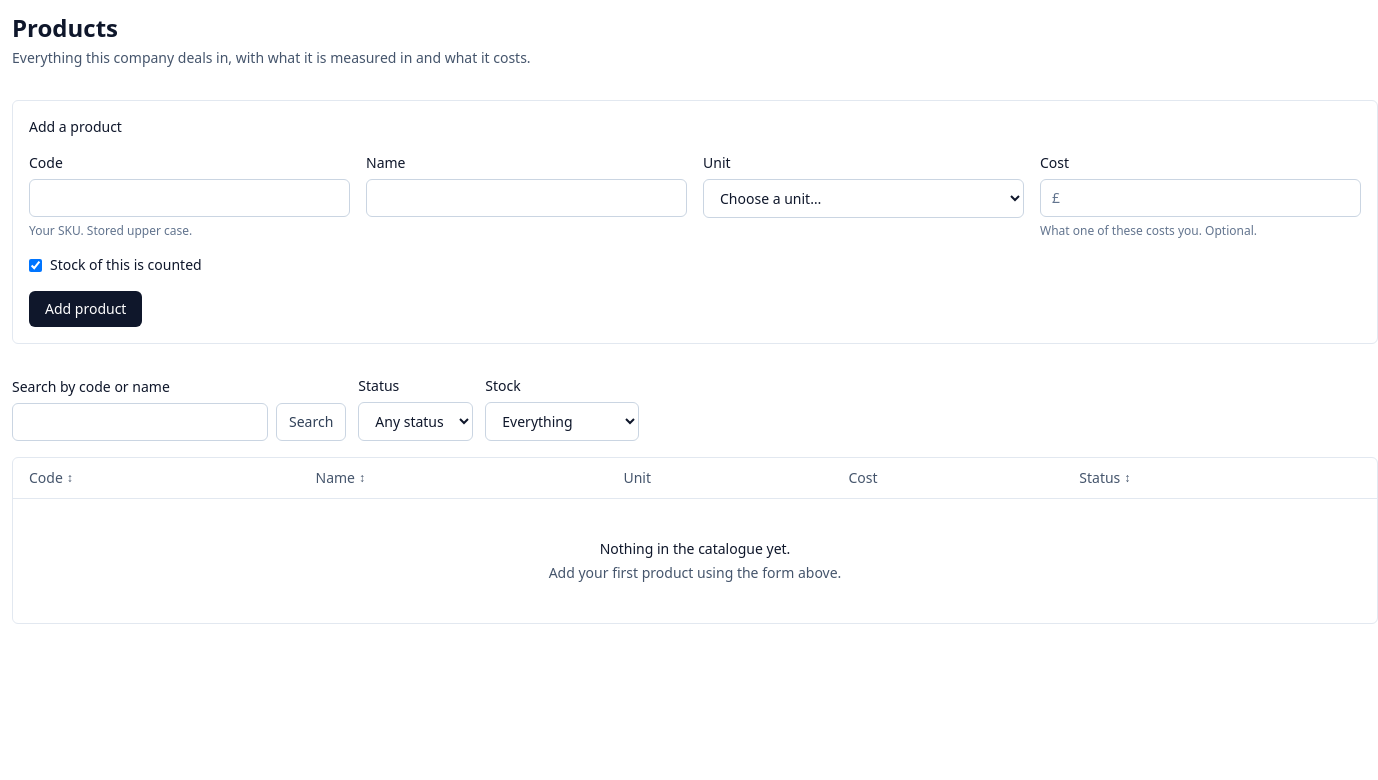
Test case: ProductsPage › adding a product › shows a duplicate code as a message rather than a silent failure
This screenshot has width=1378, height=780.
Expected: the text "Nothing in the catalogue yet." is shown, [600, 539, 790, 558]
In the field labelled "Code": (190, 198) [29, 179, 350, 217], type "FLOUR"
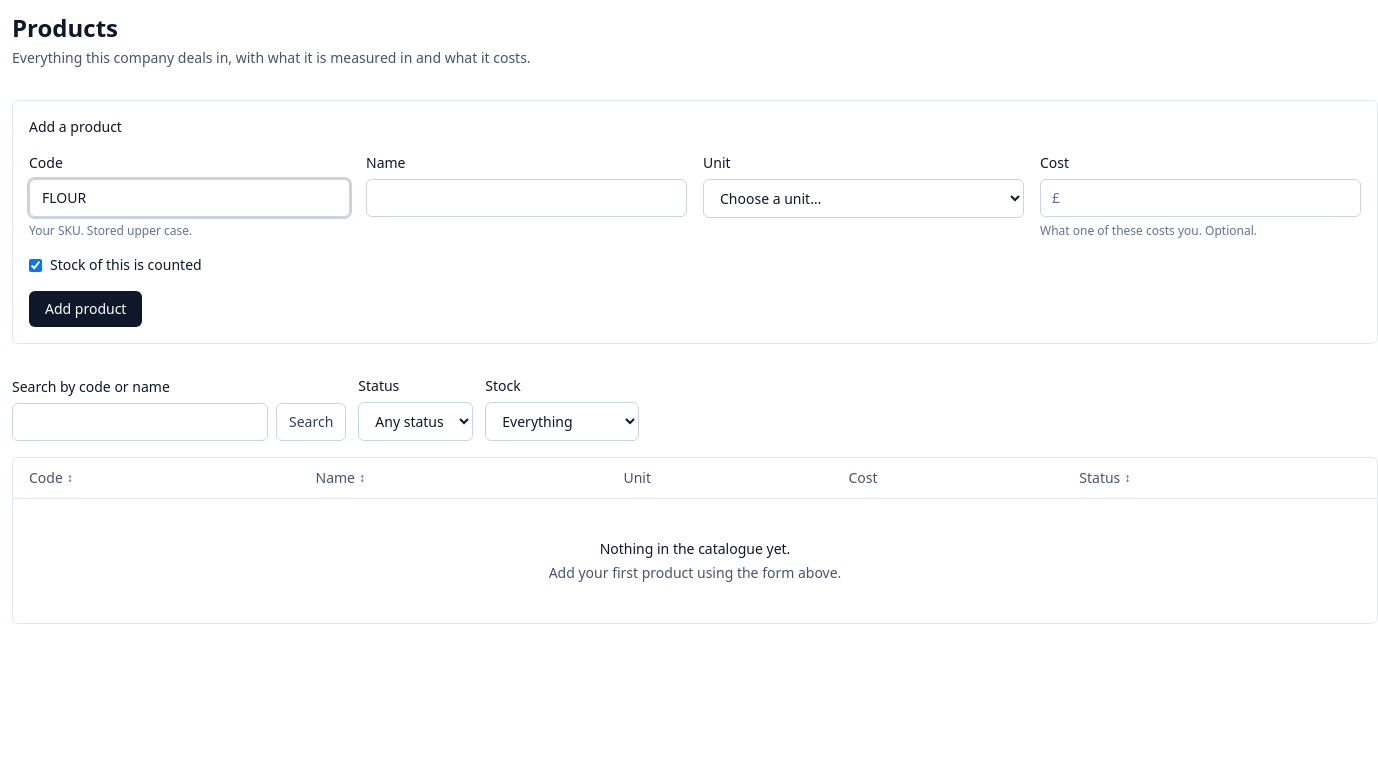
Click the button "Add product": (86, 309) [29, 291, 142, 327]
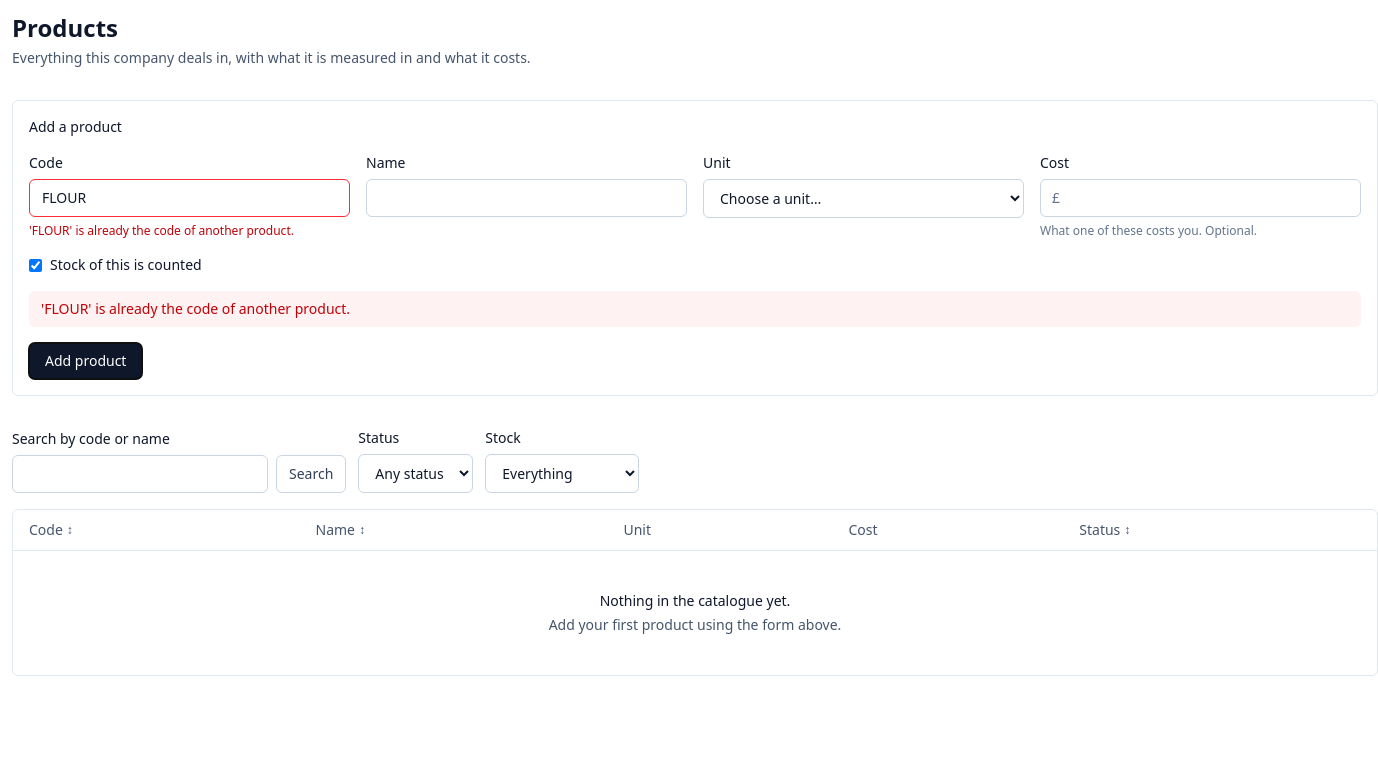
Now the message shows "already the code", box [41, 299, 350, 318]
